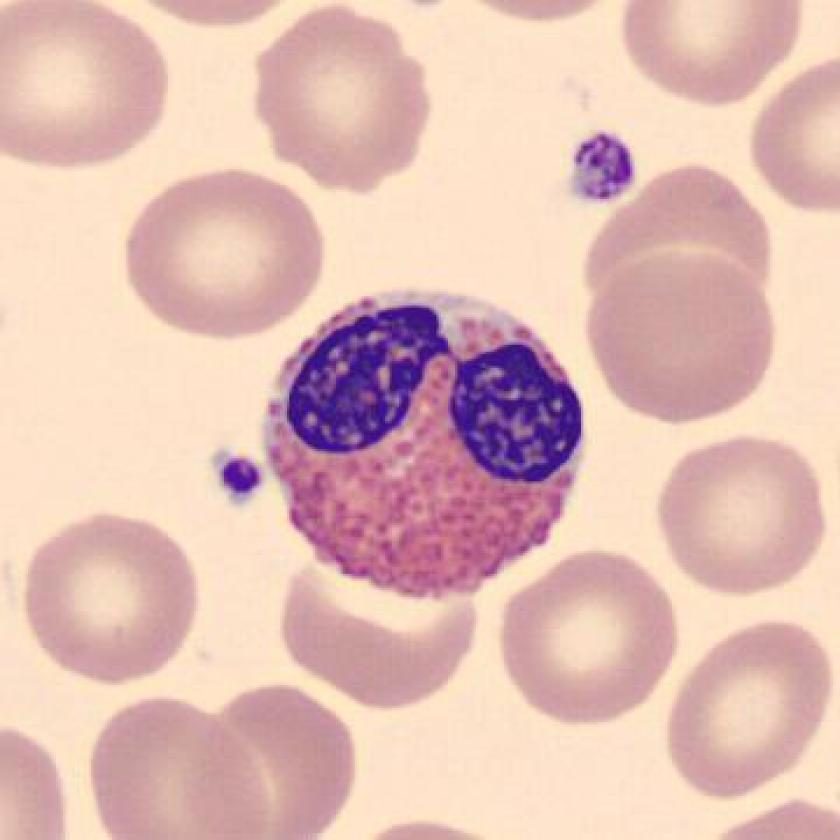eosinophil: (253, 279, 598, 614)
